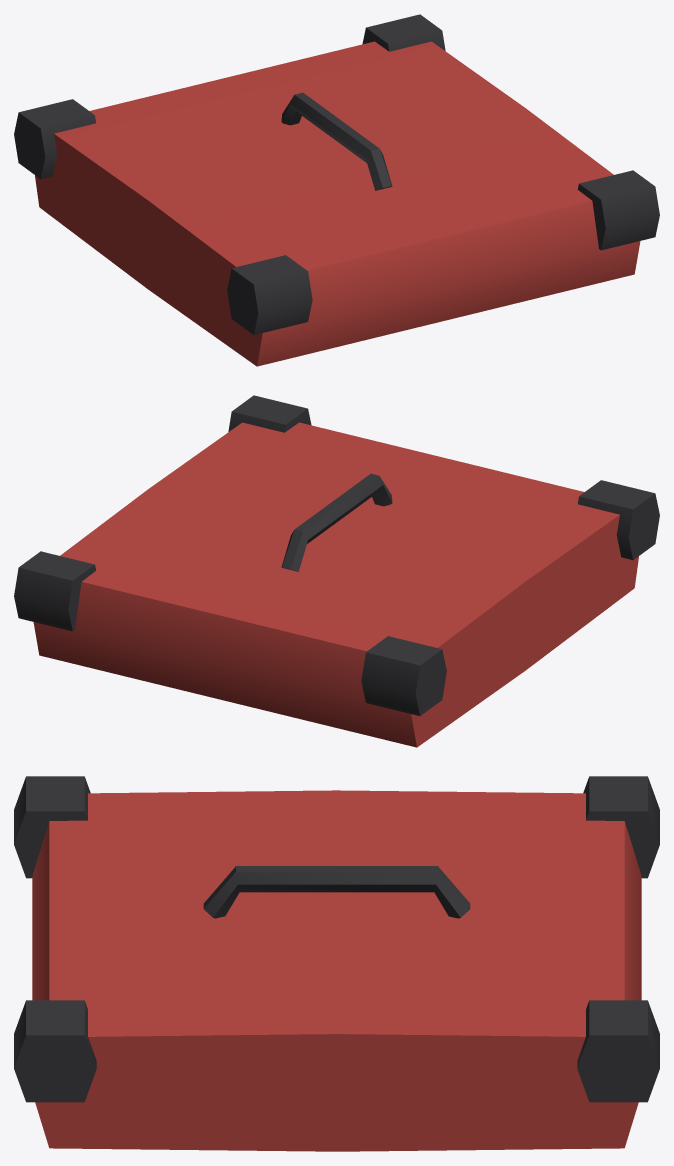
The model's file is alu_top_lid_lod1.glb.
The picture shows the model from 3 angles, top to bottom: view 1: azimuth 30°, elevation 25°; view 2: azimuth 150°, elevation 25°; view 3: azimuth 270°, elevation 25°; orthographic projection. The views are drawn at different scales.
Visible parts, largest first — view 1: alu_top_lid_lod1; view 2: alu_top_lid_lod1; view 3: alu_top_lid_lod1.
Boxes of the visible parts, bbox=[...] form: alu_top_lid_lod1: bbox=[14, 14, 659, 366]; alu_top_lid_lod1: bbox=[14, 395, 659, 747]; alu_top_lid_lod1: bbox=[14, 776, 659, 1151].
Size of the model in its own units: 0.37 by 0.1072 by 0.39.
